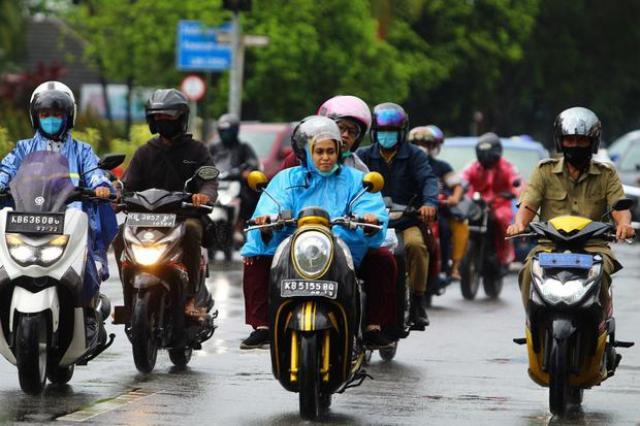helm: (318, 95, 374, 158), (292, 115, 347, 179), (555, 104, 606, 169), (143, 88, 195, 145), (30, 81, 78, 140), (369, 103, 412, 154), (406, 121, 447, 164), (473, 133, 507, 172), (217, 114, 242, 147)
motor: (241, 172, 387, 426), (503, 198, 639, 419), (2, 155, 105, 398), (111, 181, 218, 377)
